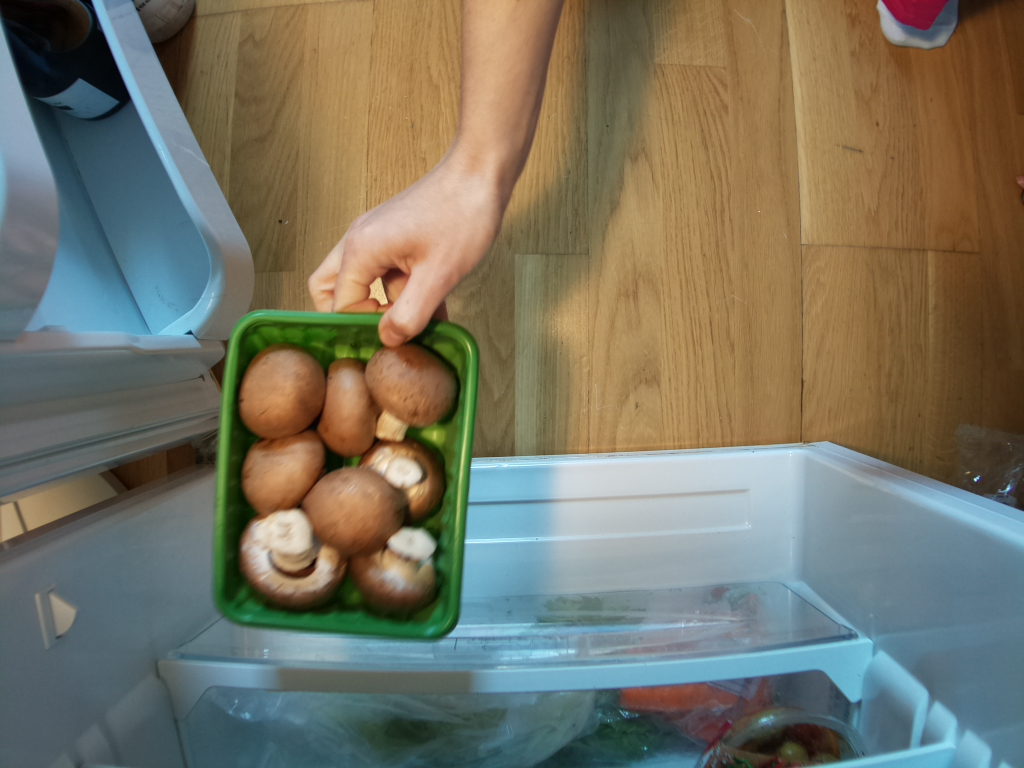mushrooms: (197, 304, 487, 649)
